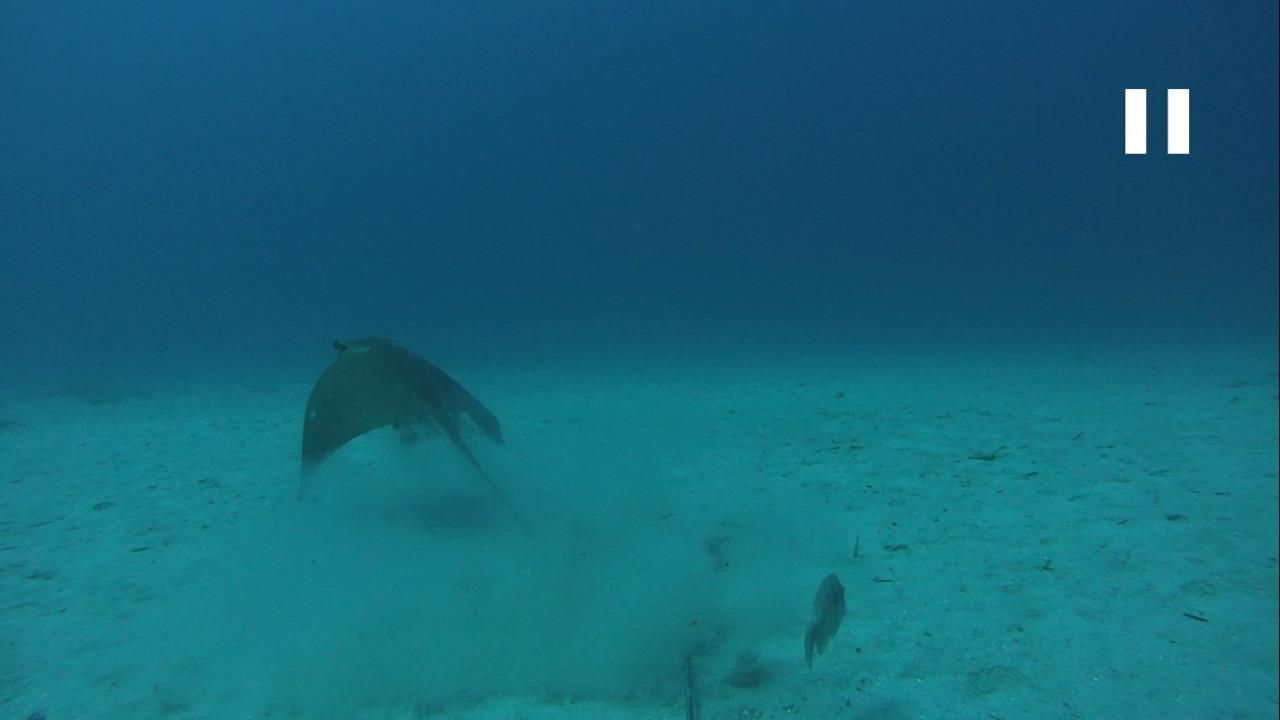myliobatis: (270, 326, 569, 560)
raor: (791, 565, 850, 665)
